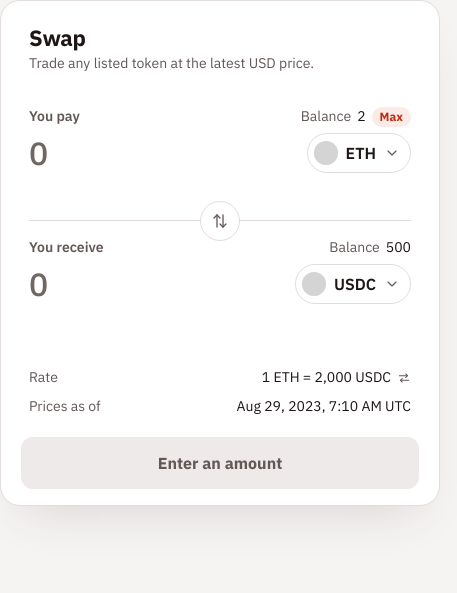
Test: SwapForm › submits, shows progress, then settles balances and confirms
This screenshot has width=457, height=593.
Type "0.5" into the field labelled "You pay" at [162, 153], box [29,133,295,173]
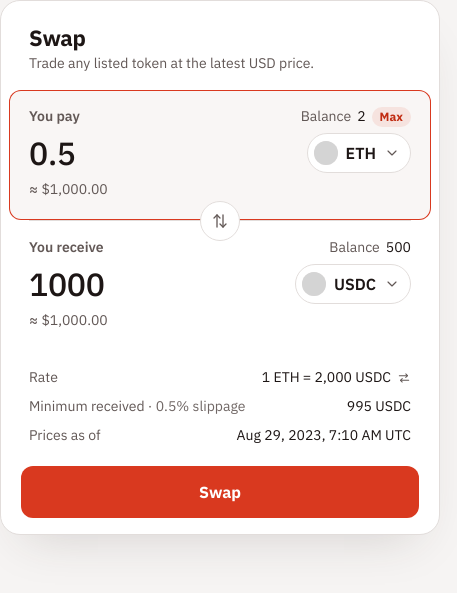
Click the button "Swap" at [220, 492], box [21,466,419,518]
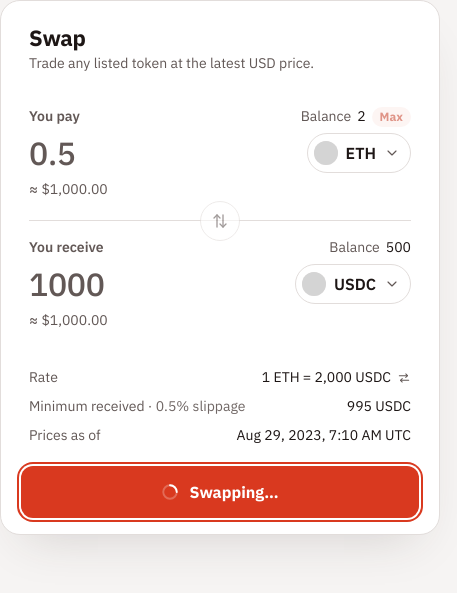
Result: the button "Swapping…" is shown
# A second click while pending must not submit twice.
Click the button "Swapping…" at [220, 492], box [21,466,419,518]
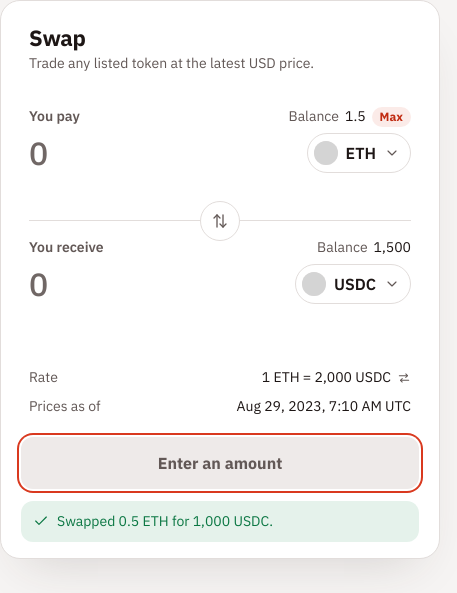
Result: the text "Swapped 0.5 ETH for 1,000 USDC." is shown at [57,511,273,532]
Result: the field labelled "You pay" is empty at [29,133,295,173]
Result: the text "1.5" is shown at [345,106,366,127]
